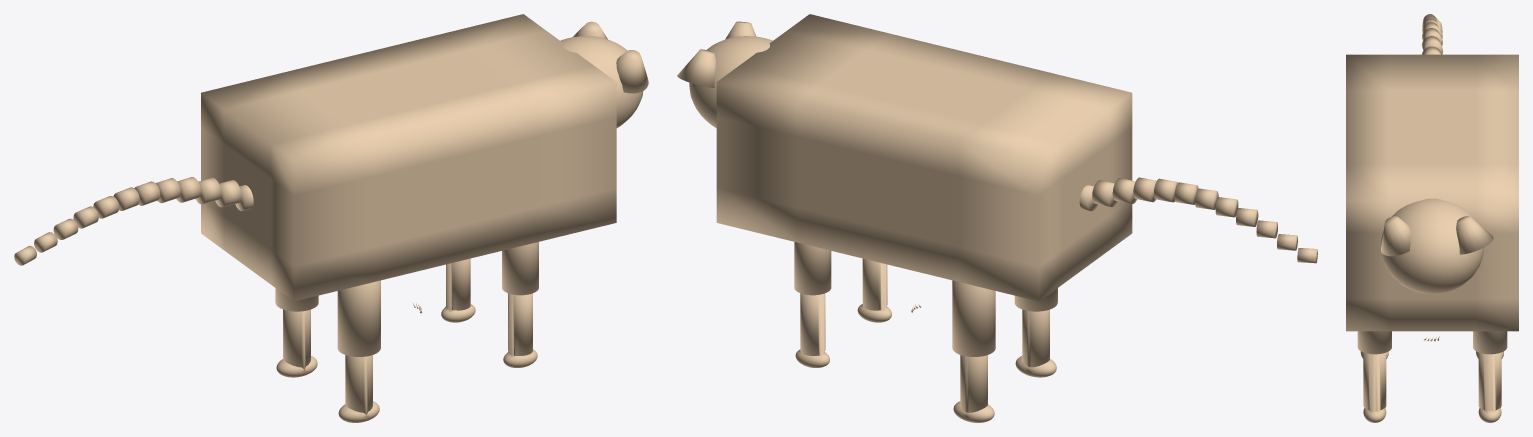
The model's file is cat_medical.glb.
The picture shows the model from 3 angles, left to right: view 1: azimuth 30°, elevation 25°; view 2: azimuth 150°, elevation 25°; view 3: azimuth 270°, elevation 25°; orthographic projection. The views are drawn at different scales.
Visible parts, largest first — view 1: Cat_Medical; view 2: Cat_Medical; view 3: Cat_Medical.
Boxes of the visible parts, left/top/right/bottom form: Cat_Medical: left=14, top=14, right=648, bottom=422; Cat_Medical: left=677, top=14, right=1317, bottom=422; Cat_Medical: left=1346, top=14, right=1518, bottom=422.
Bounding box in the file's own units: 4.62 × 2.09 × 1.2.
